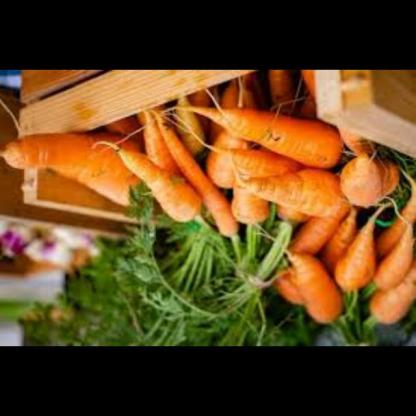carrot: (133, 88, 362, 236), (278, 199, 416, 325), (0, 132, 164, 218)
